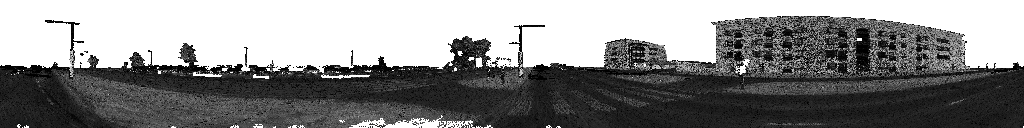light_pole: (44, 20, 84, 77), (509, 24, 544, 76)
traffic_pole: (484, 56, 511, 85), (735, 65, 746, 90)
